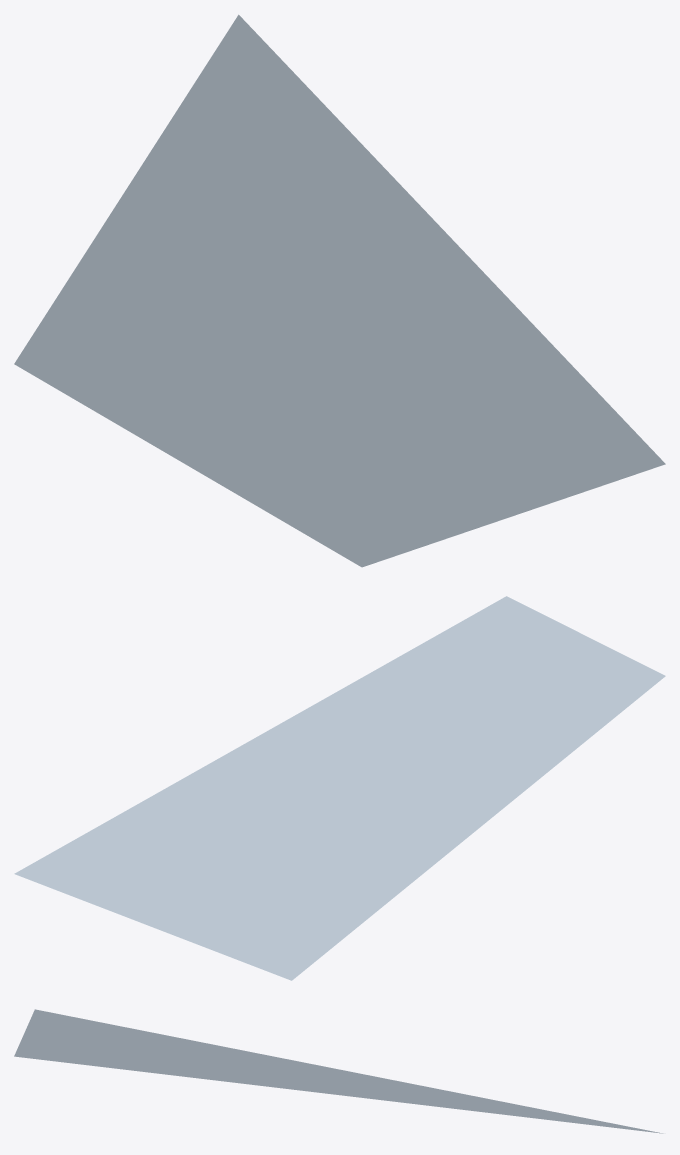
The model's file is plantar-calcaneonavicular-ligament-r.glb.
3 views of the same model, one above another, from view 1: azimuth 30°, elevation 25°; view 2: azimuth 150°, elevation 25°; view 3: azimuth 270°, elevation 25° (orthographic). The views are drawn at different scales.
Parts seen in each view (by area): view 1: Plantar calcaneonavicular ligament.r; view 2: Plantar calcaneonavicular ligament.r; view 3: Plantar calcaneonavicular ligament.r.
Boxes of the visible parts, left/top/right/bottom form: Plantar calcaneonavicular ligament.r: left=14, top=14, right=665, bottom=567; Plantar calcaneonavicular ligament.r: left=14, top=596, right=665, bottom=980; Plantar calcaneonavicular ligament.r: left=14, top=1009, right=663, bottom=1133.
Bounding box in the file's own units: 0.00926 × 0.0043 × 0.0208.
